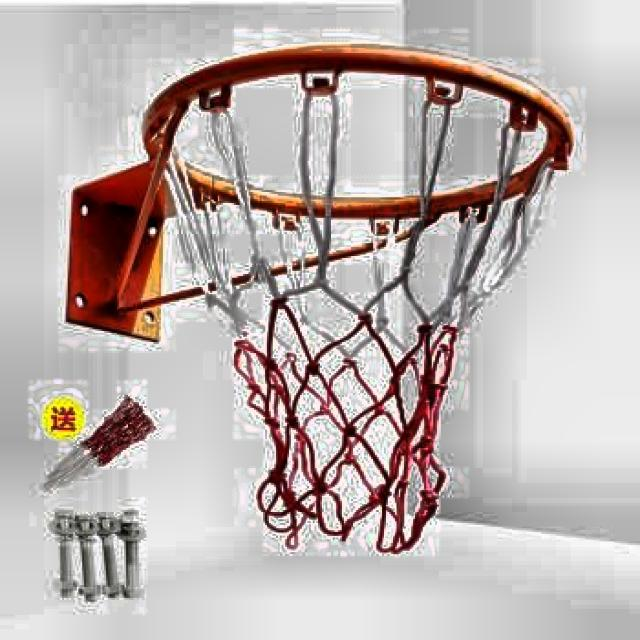rim: (142, 41, 573, 557)
